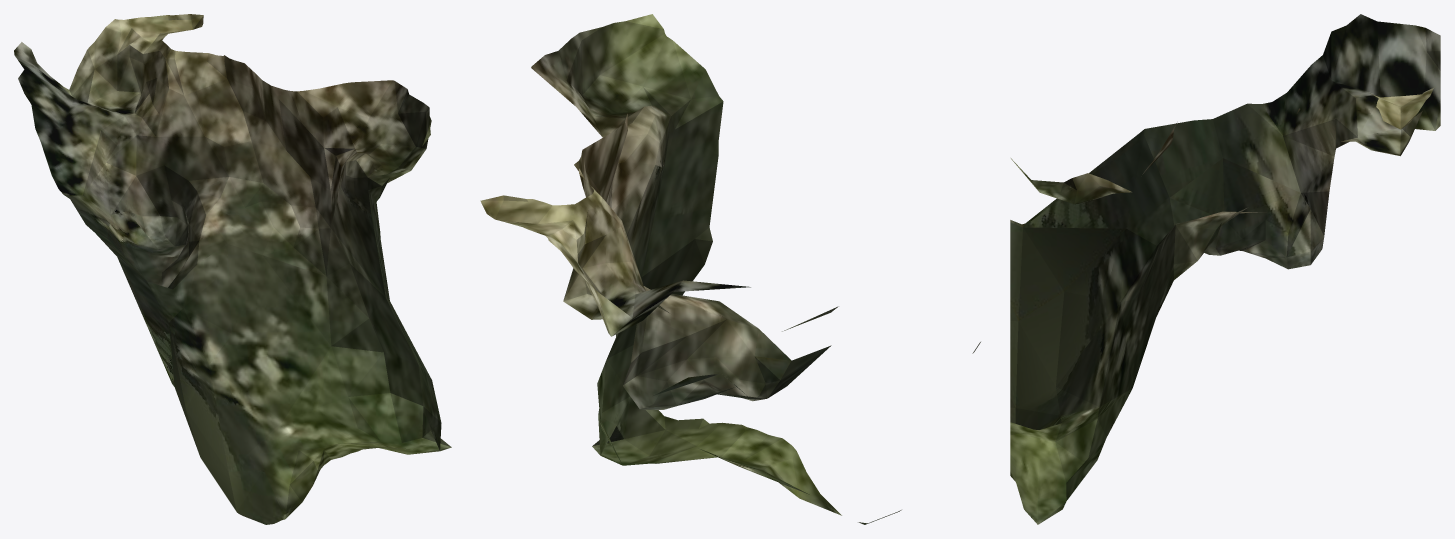
3 renders of one model, left to right at view 1: azimuth 30°, elevation 25°; view 2: azimuth 150°, elevation 25°; view 3: azimuth 270°, elevation 25°, orthographic. The views are drawn at different scales.
Size of the model in its own units: 2.46 by 2.89 by 2.95.
Materials: 4 (4 with a texture image).
